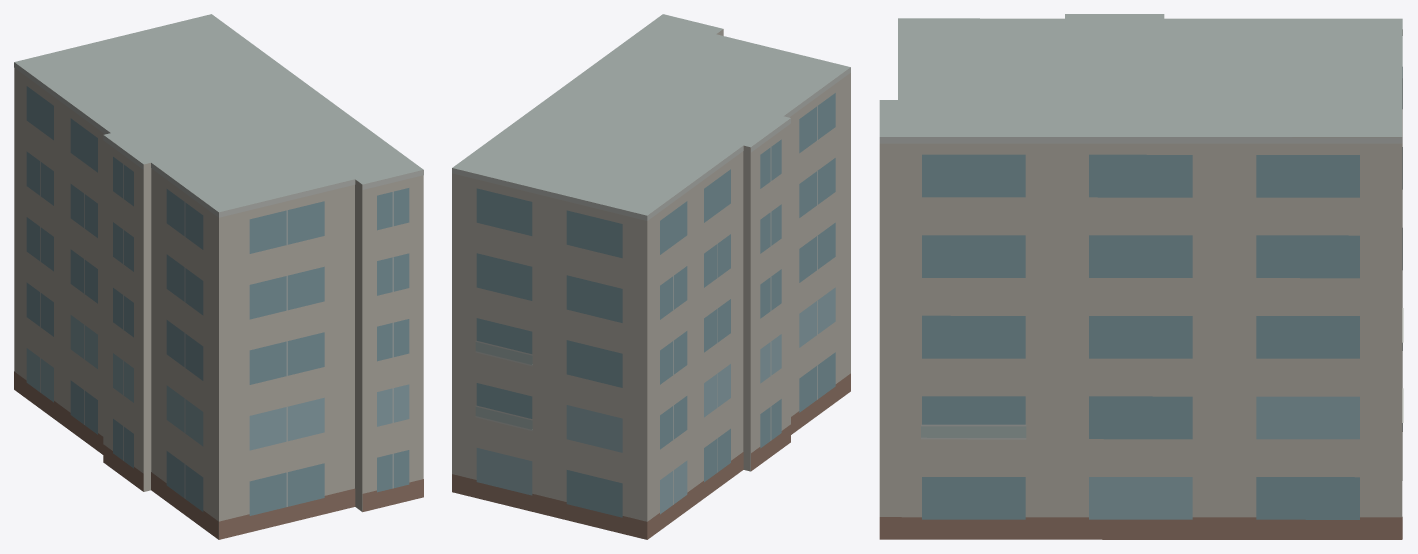
File: survey-upis-33020805.glb
3 views of the same model, side by side, from view 1: azimuth 30°, elevation 25°; view 2: azimuth 150°, elevation 25°; view 3: azimuth 270°, elevation 25° (orthographic). The views are drawn at different scales.
Parts seen in each view (by area): view 1: survey-upis-33020805.tmp; view 2: survey-upis-33020805.tmp; view 3: survey-upis-33020805.tmp.
Boxes of the visible parts, x1,y1,x2,y2 form: survey-upis-33020805.tmp: (14, 14, 423, 539); survey-upis-33020805.tmp: (452, 14, 850, 539); survey-upis-33020805.tmp: (879, 14, 1403, 539).
Bounding box in the file's own units: 9.66 × 14.7 × 17.34.
